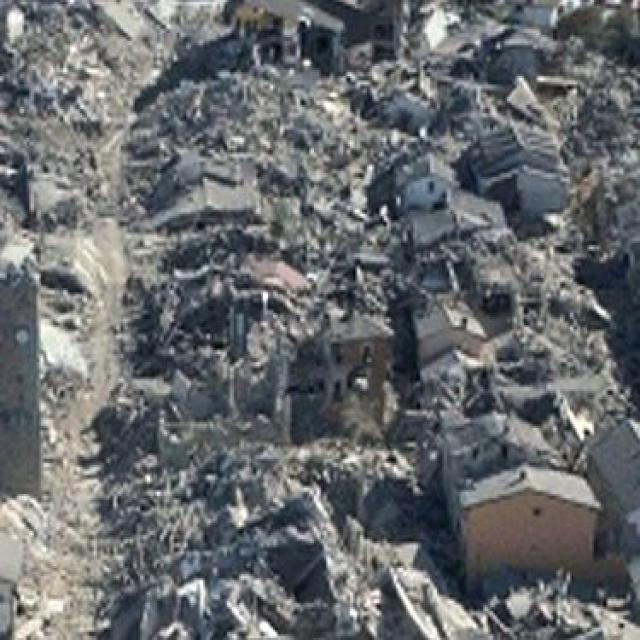collapsed_building: (123, 68, 379, 638), (400, 82, 638, 558), (0, 10, 99, 247)
